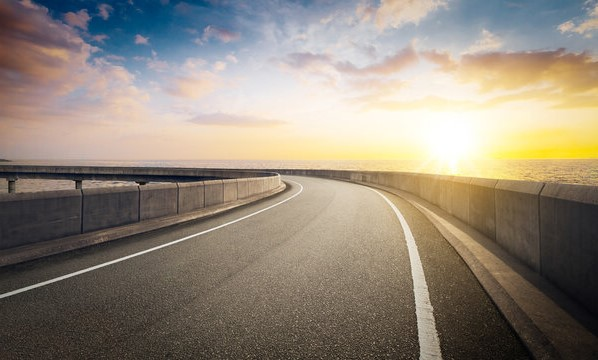leftTrun: (235, 165, 460, 317)
